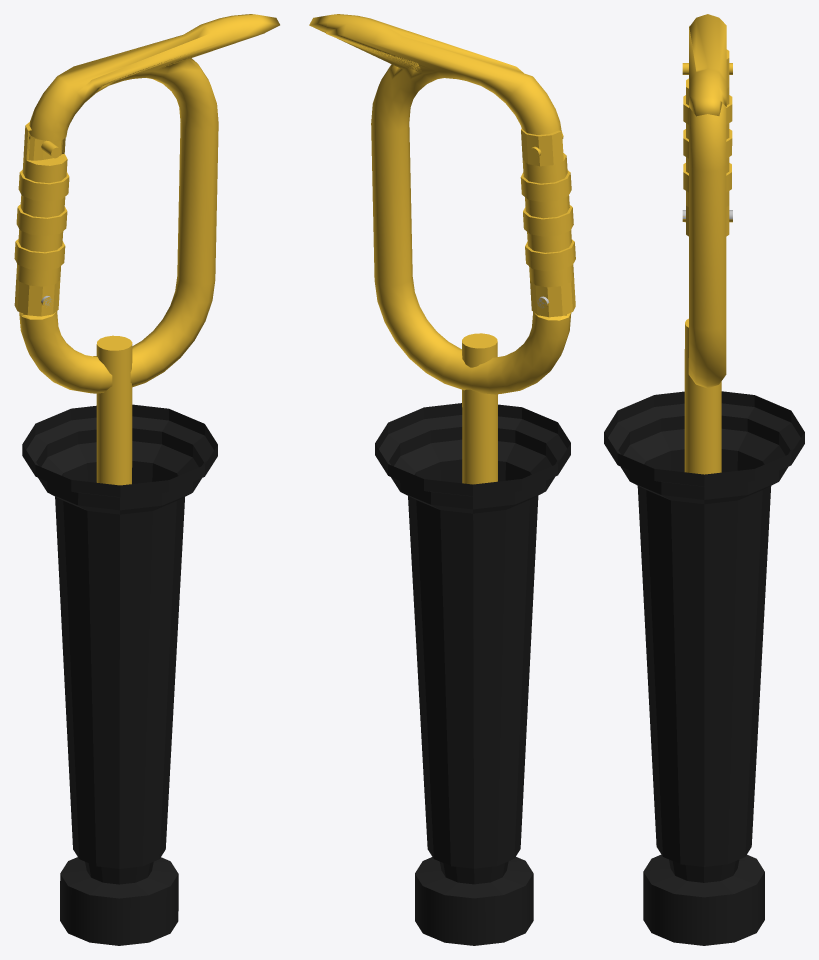
File: Retractable-Hook.fbx
3 views of the same model, side by side, from view 1: azimuth 30°, elevation 25°; view 2: azimuth 150°, elevation 25°; view 3: azimuth 270°, elevation 25° (orthographic). The views are drawn at different scales.
Parts seen in each view (by area): view 1: Retractable_Hook; view 2: Retractable_Hook; view 3: Retractable_Hook.
Part boxes in pixels (<box>): Retractable_Hook: <box>14,14,279,945</box>; Retractable_Hook: <box>309,14,575,945</box>; Retractable_Hook: <box>604,14,804,945</box>.
Bounding box in the file's own units: 10.14 × 33.05 × 6.63.
